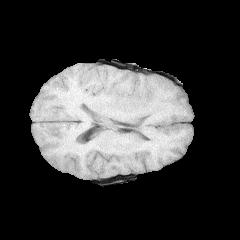glioma: (106, 70, 153, 109)
